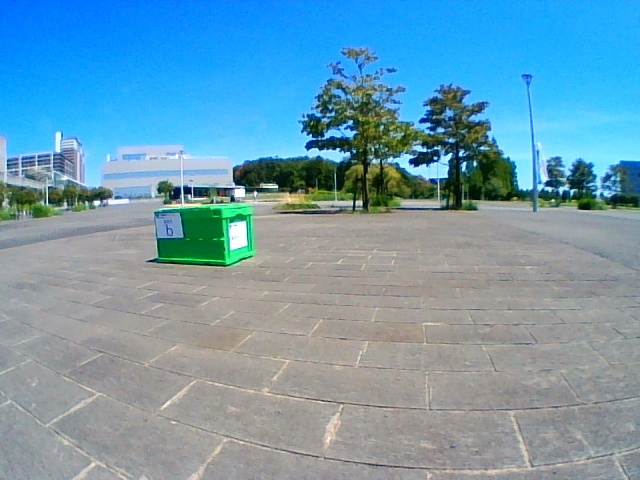green_box: (155, 204, 254, 265)
tag_b: (156, 212, 181, 239)
